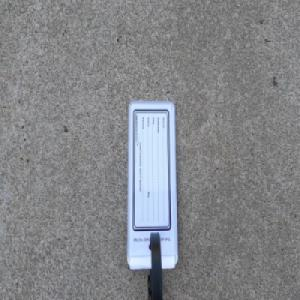LuggageTag: (125, 98, 179, 300)
